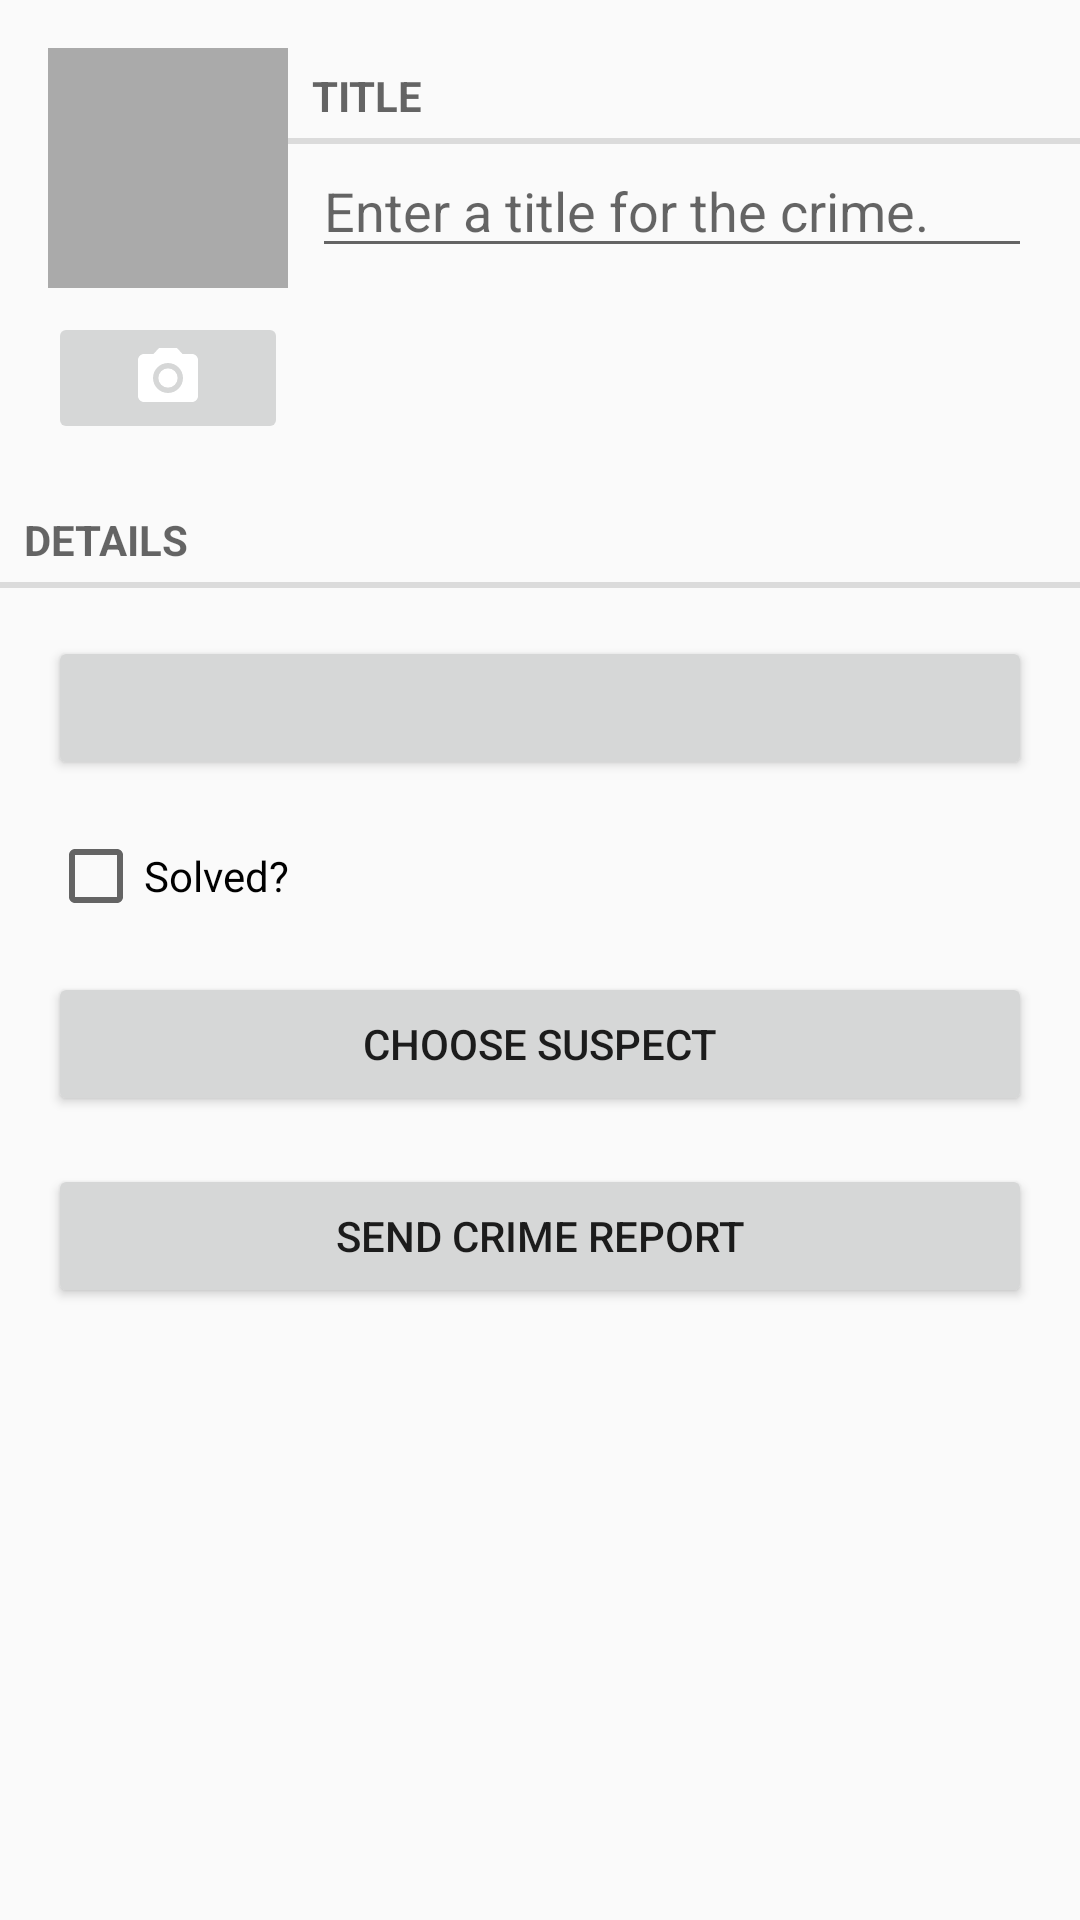

Named icons in this screenshot (1080×1920) and their bounding boxes, (x1, y1, x2, y2):
camera: (60, 330, 276, 426)
